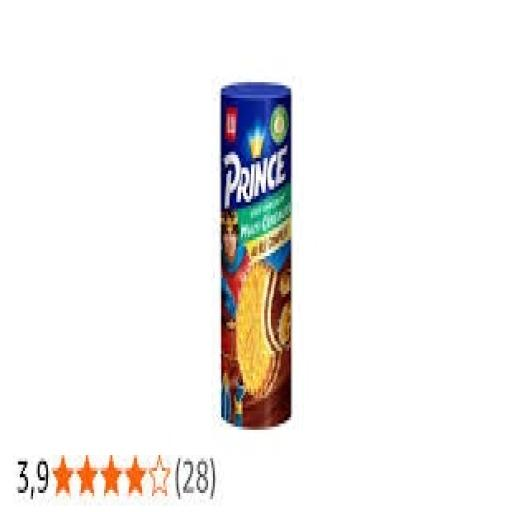prince: (140, 68, 416, 512)
